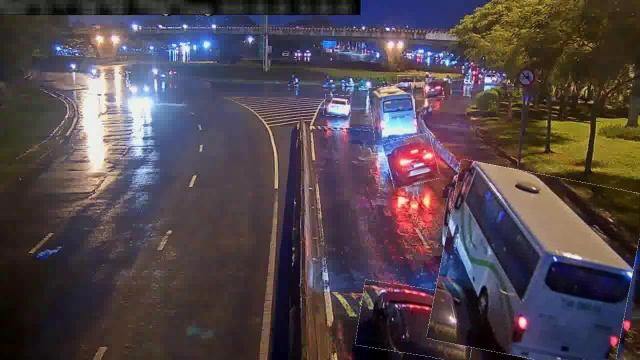Bus: (434, 167, 640, 359), (369, 84, 416, 140)
Car: (358, 284, 477, 358), (385, 136, 437, 187), (324, 95, 352, 117), (424, 78, 446, 98), (398, 76, 422, 90)
